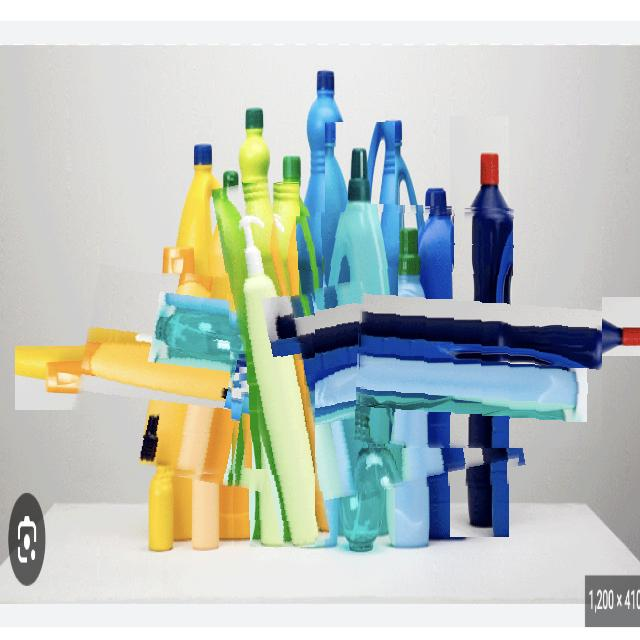recyclable: (232, 210, 488, 466), (357, 205, 602, 448), (295, 267, 520, 492), (72, 273, 283, 483), (226, 181, 315, 547)
